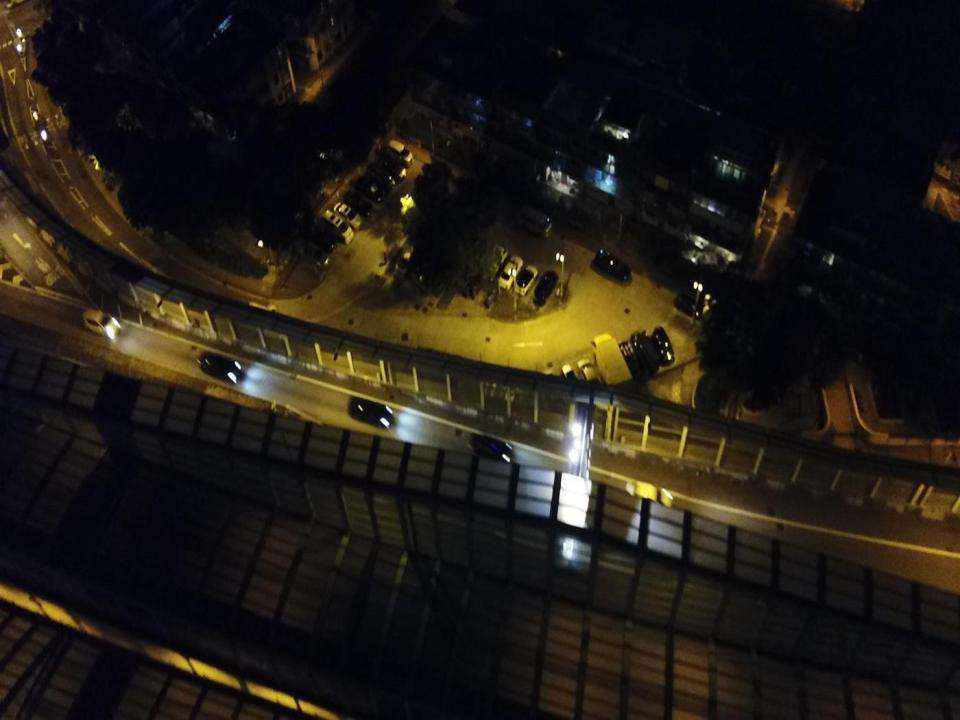bus: (515, 204, 552, 240)
car: (347, 393, 394, 428), (467, 433, 513, 467), (614, 340, 649, 383), (198, 351, 242, 385), (630, 328, 660, 376), (82, 306, 122, 341), (594, 247, 632, 282), (482, 242, 508, 282), (295, 241, 330, 270), (332, 201, 364, 232), (534, 268, 560, 305), (498, 254, 524, 291), (652, 326, 676, 366), (578, 356, 601, 397), (365, 164, 396, 194), (376, 153, 407, 181), (344, 191, 374, 219), (513, 263, 538, 296), (356, 175, 387, 201), (561, 363, 580, 390)
truck: (590, 333, 633, 394)
van: (321, 209, 354, 246), (386, 139, 414, 169)
